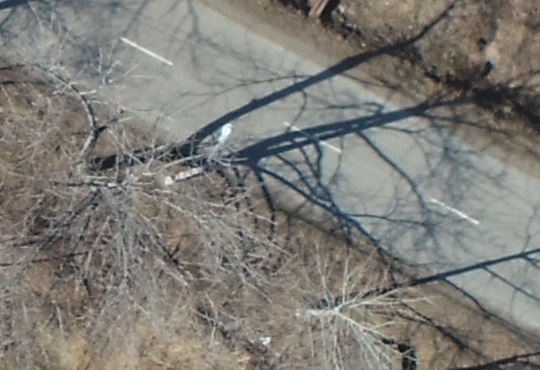opora: (164, 124, 233, 183)
